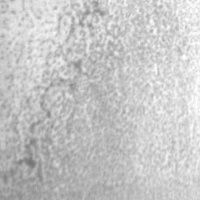pitted_surface: (3, 2, 118, 183), (50, 2, 194, 74)
